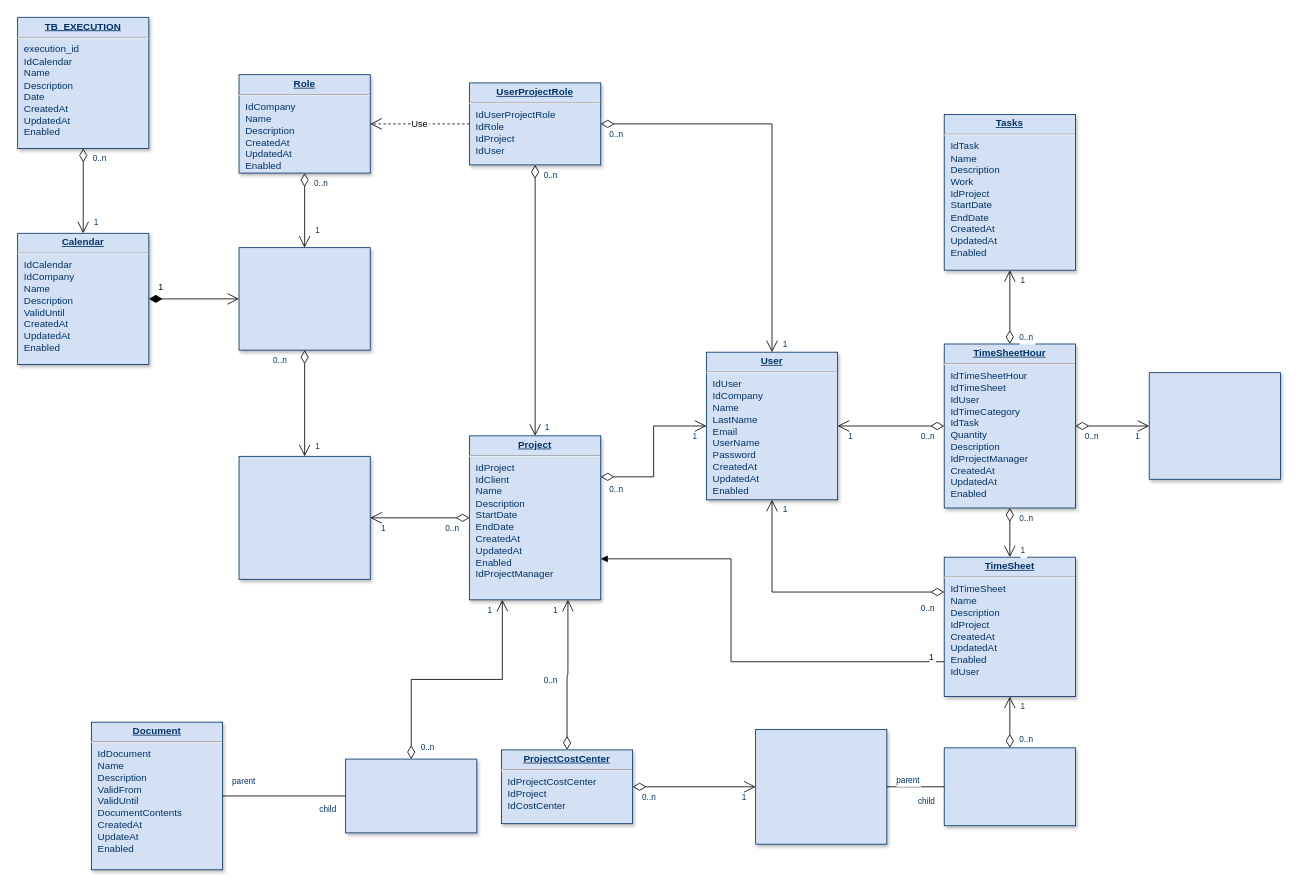
Image size: 1300x891. Some labels were removed from this diagram. Each missing label, with the centre of its shape:
"Client IdClient IdCompany Name Description CreatedAt UpdatedAt Enabled" goes at (x=305, y=518).
"Company Name Description CreatedAt UpdatedAt Enabled" goes at (x=305, y=300).
"CostCenter IdCostCenter Name Description CreatedAt UpdatedAt Enabled" goes at (x=822, y=787).
"ProjectDocument IdProjectDocument IdProject IdDocument" goes at (x=412, y=797).
"TimeCategory IdTimeCategory Name Description CreatedAt UpdatedAt Enabled" goes at (x=1215, y=427).
"TimeSheetCostCenter IdTimeSheetCostCenter IdTimeSheet IdCostCenter" goes at (x=1010, y=787).
